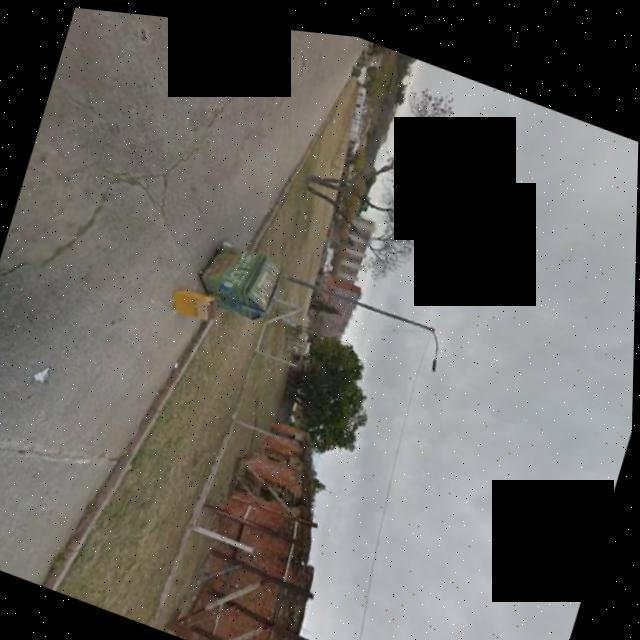bin: (186, 214, 302, 332)
